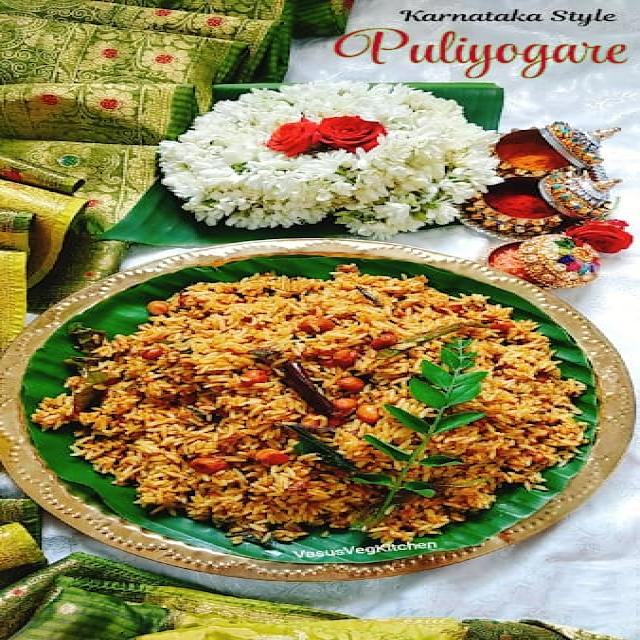puliyogare: (12, 248, 623, 570)
